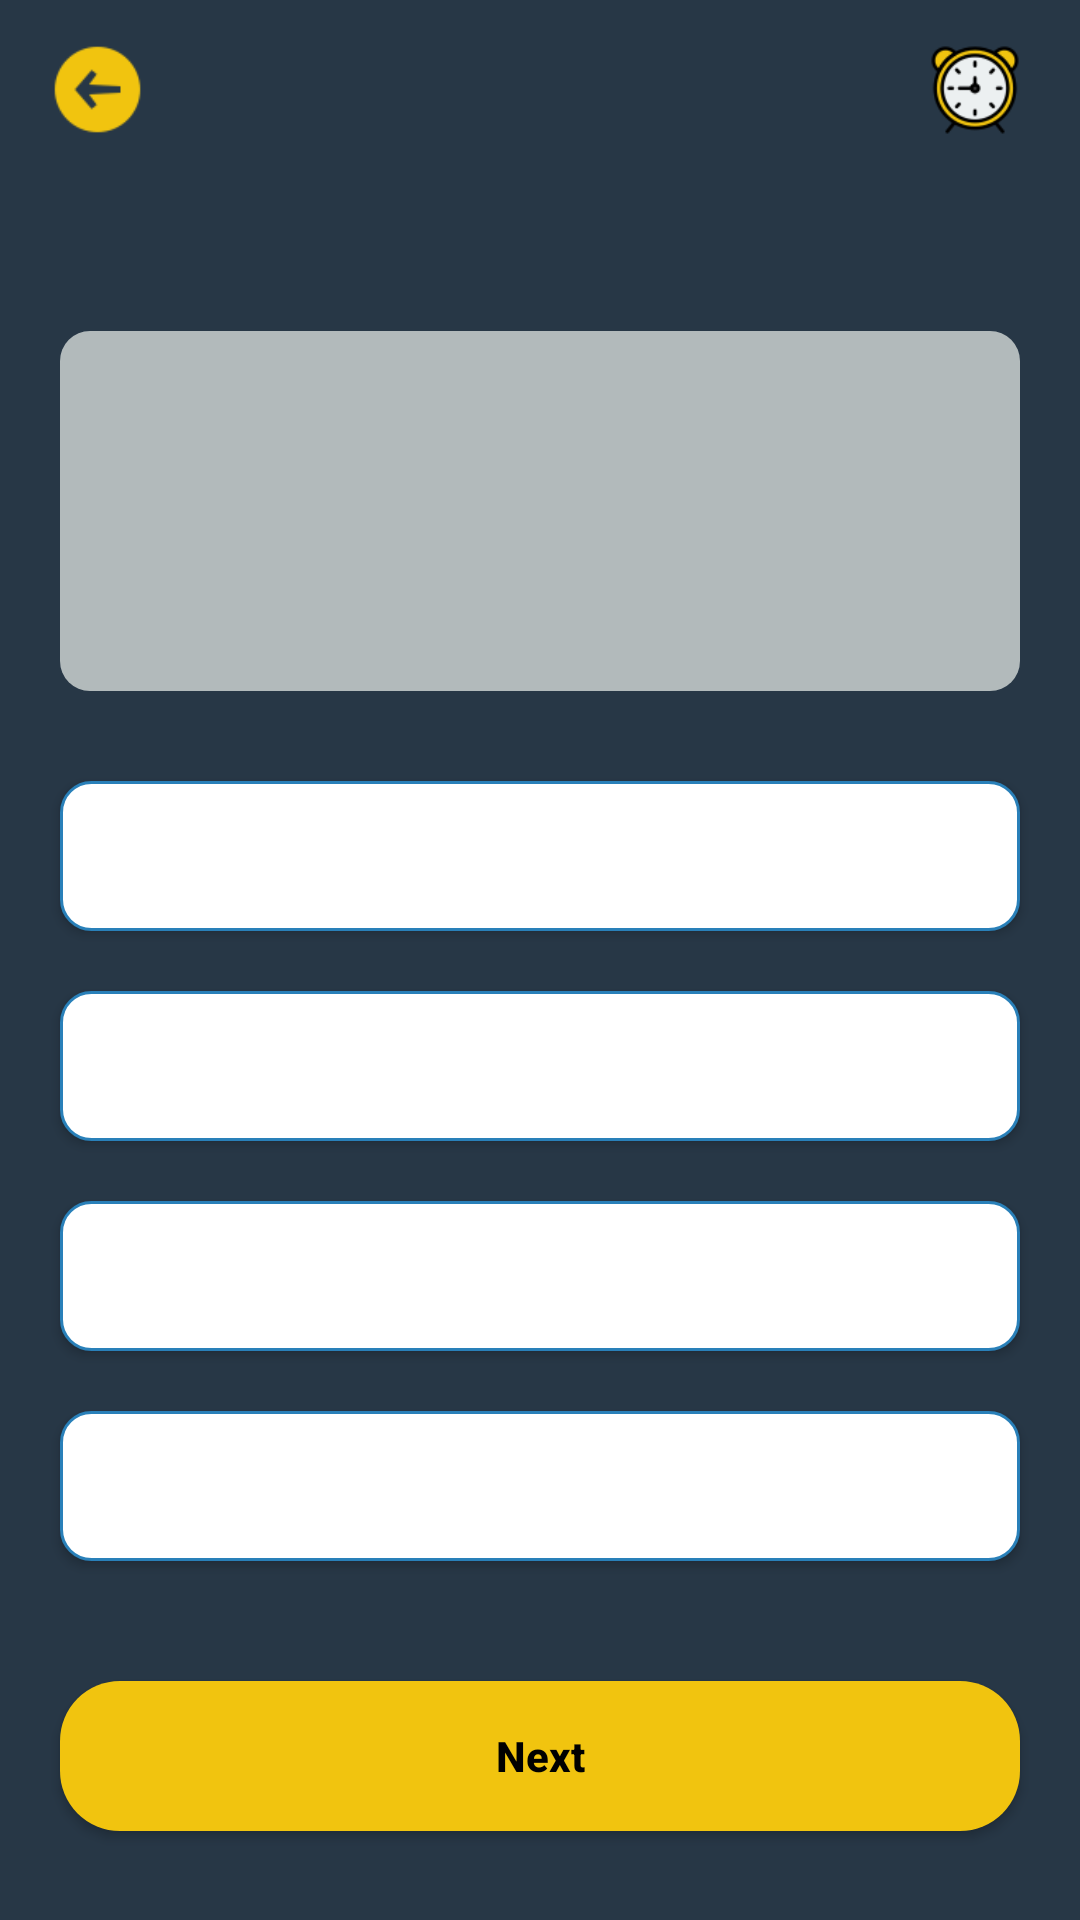

Icon click points for this 1080px×1920px phone screenshot, format (x=x, y=y):
backicon: (x=97, y=89)
timer: (x=975, y=90)
